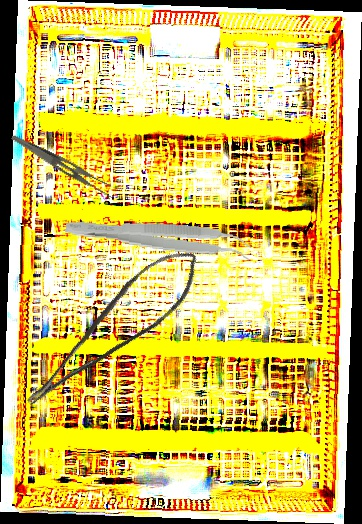Dressing Forceps: (5, 134, 119, 200)
Micro Scissor: (2, 237, 217, 413)
Tissue Forceps: (63, 214, 253, 264)
